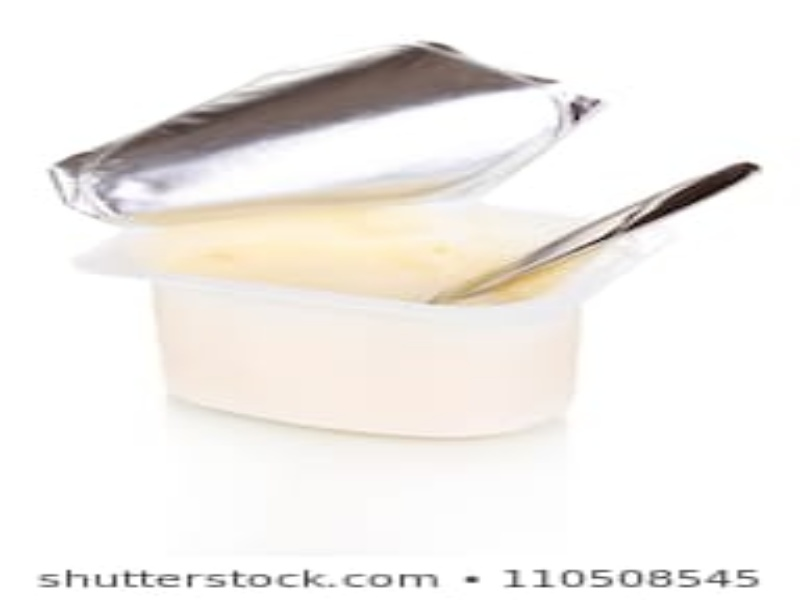yogurt-cup: (81, 194, 660, 433)
